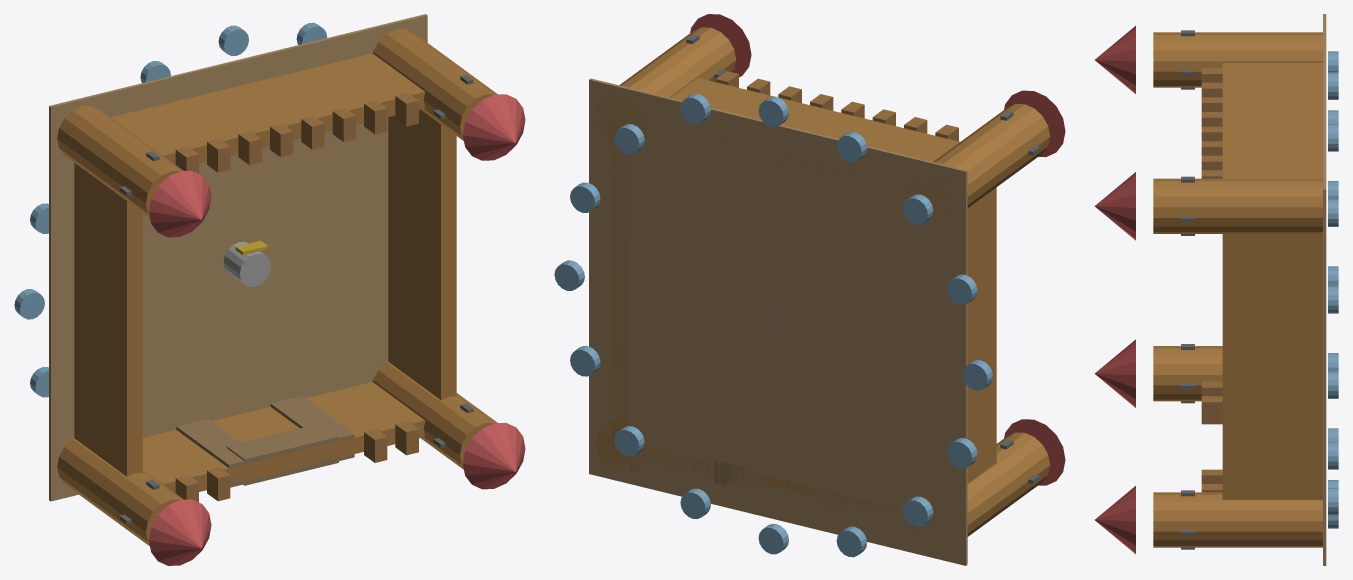
The model's file is historical_sites.glb.
3 views of the same model, side by side, from view 1: azimuth 30°, elevation 25°; view 2: azimuth 150°, elevation 25°; view 3: azimuth 270°, elevation 25° (orthographic). The views are drawn at different scales.
Visible parts, largest first — view 1: world; view 2: world; view 3: world.
Boxes of the visible parts, x1,y1,x2,y2 form: world: (14,14,525,565); world: (554,14,1065,565); world: (1094,14,1338,565).
Size of the model in its own units: 13.8 by 13.8 by 7.05.
